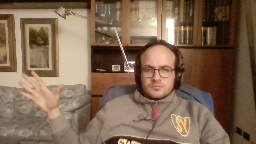Mano_aperta: (17, 69, 64, 111)
